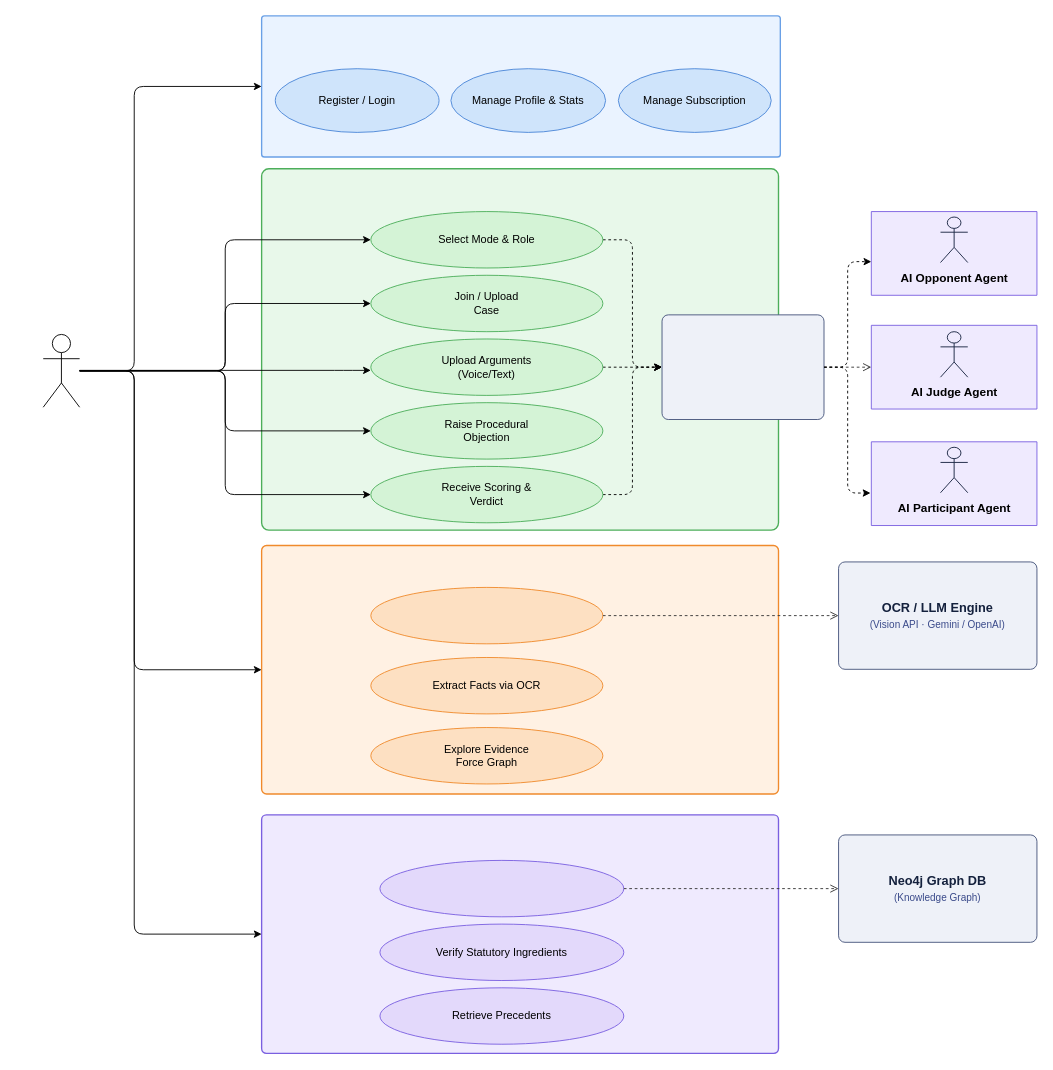
Image size: 1053x1070. Some labels were removed from this diagram. Each missing label, with the box of its shape:
1. User & Account Management: (261, 15, 781, 157)
2. Moot Court Platform: (261, 168, 779, 530)
3. Evidence Analyzer: (261, 544, 779, 794)
4. LexiGraph: (261, 814, 779, 1054)
Query Legal Statutes: (379, 859, 624, 917)
Redis Queue (Realtime Coordination): (661, 314, 824, 420)
Upload Legal Documents (FIR): (370, 586, 603, 644)
User (Advocate / Student): (42, 334, 80, 407)
